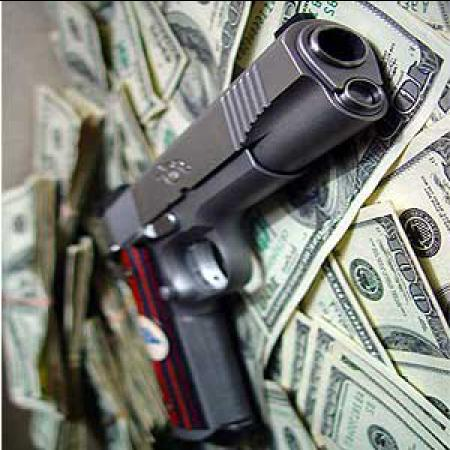Pistol: (94, 7, 379, 442)
